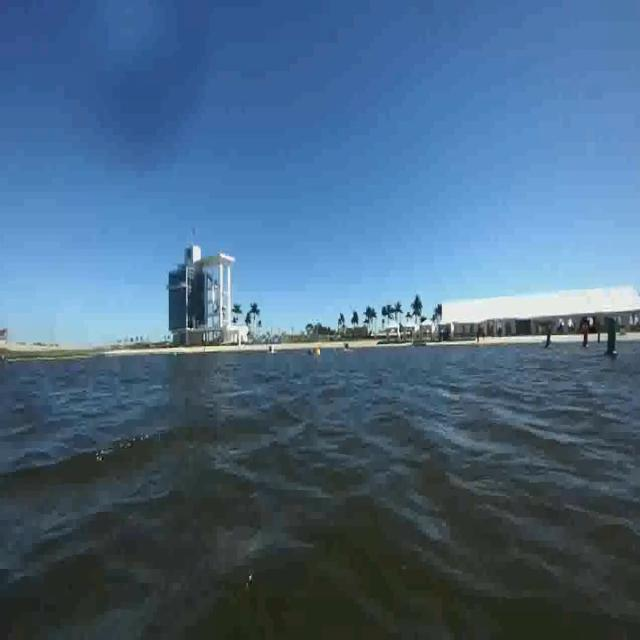green-column-buoy: (606, 317, 622, 358)
red-column-buoy: (582, 325, 590, 348)
yellow-buoy: (316, 347, 322, 357)
